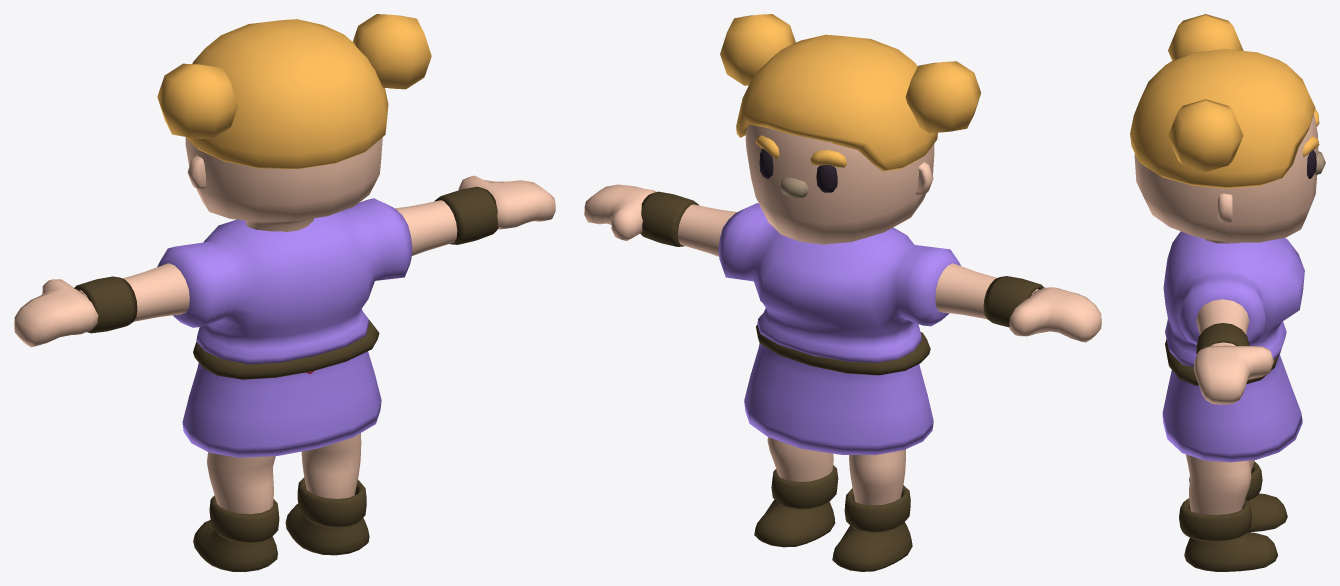
The model's file is man_06.fbx.
3 renders of one model, left to right at view 1: azimuth 30°, elevation 25°; view 2: azimuth 150°, elevation 25°; view 3: azimuth 270°, elevation 25°, orthographic. The views are drawn at different scales.
Visible parts, largest first — view 1: Cube; view 2: Cube; view 3: Cube.
Part boxes in pixels (x1,y1,x2,y2): Cube: (14, 14, 555, 571); Cube: (584, 14, 1101, 571); Cube: (1130, 14, 1325, 571).
Size of the model in its own units: 476 by 443 by 164.
